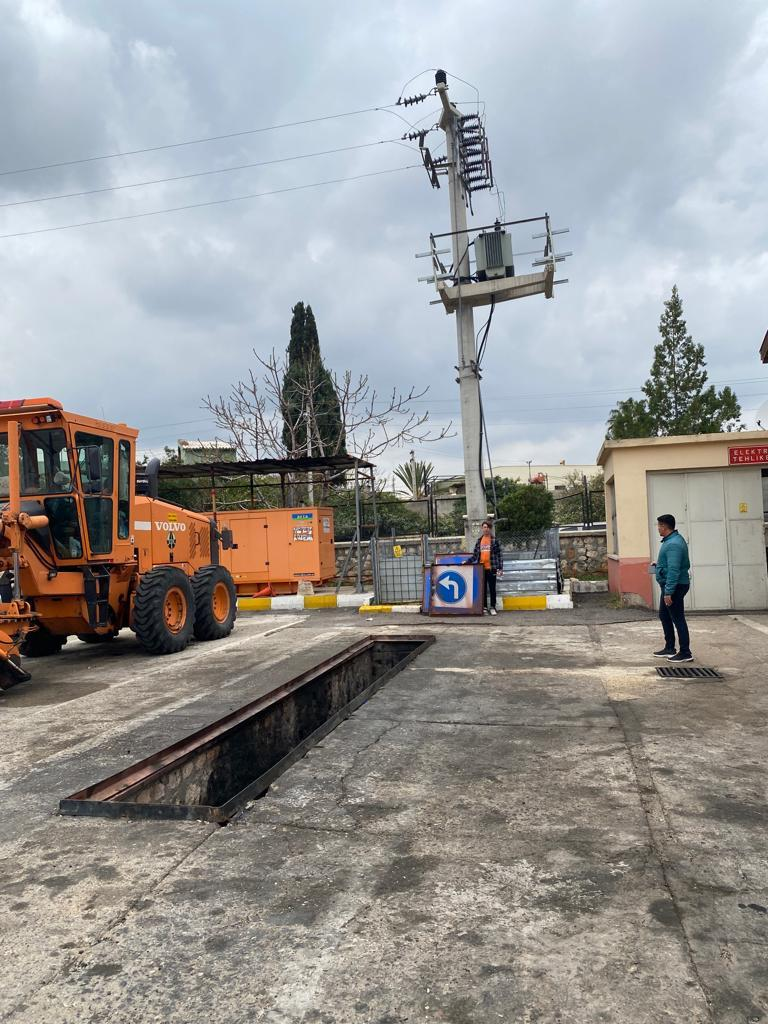.: (0, 900, 574, 1024), (337, 969, 768, 1024)
